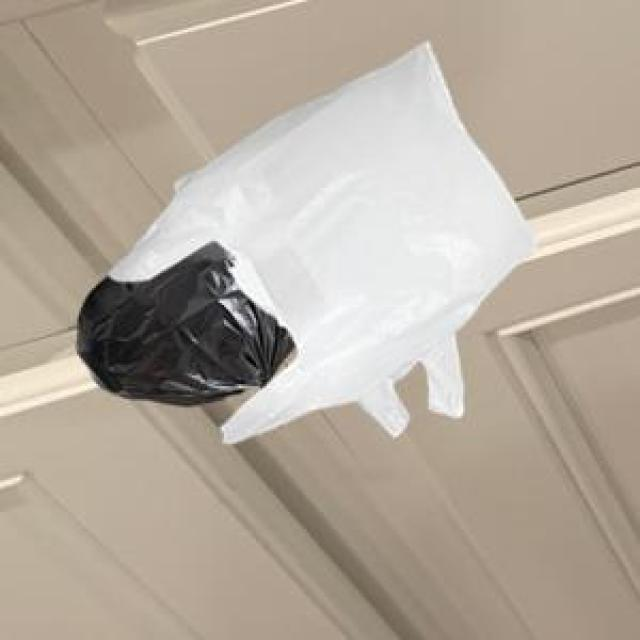miscellaneous trash: (73, 237, 292, 401)
